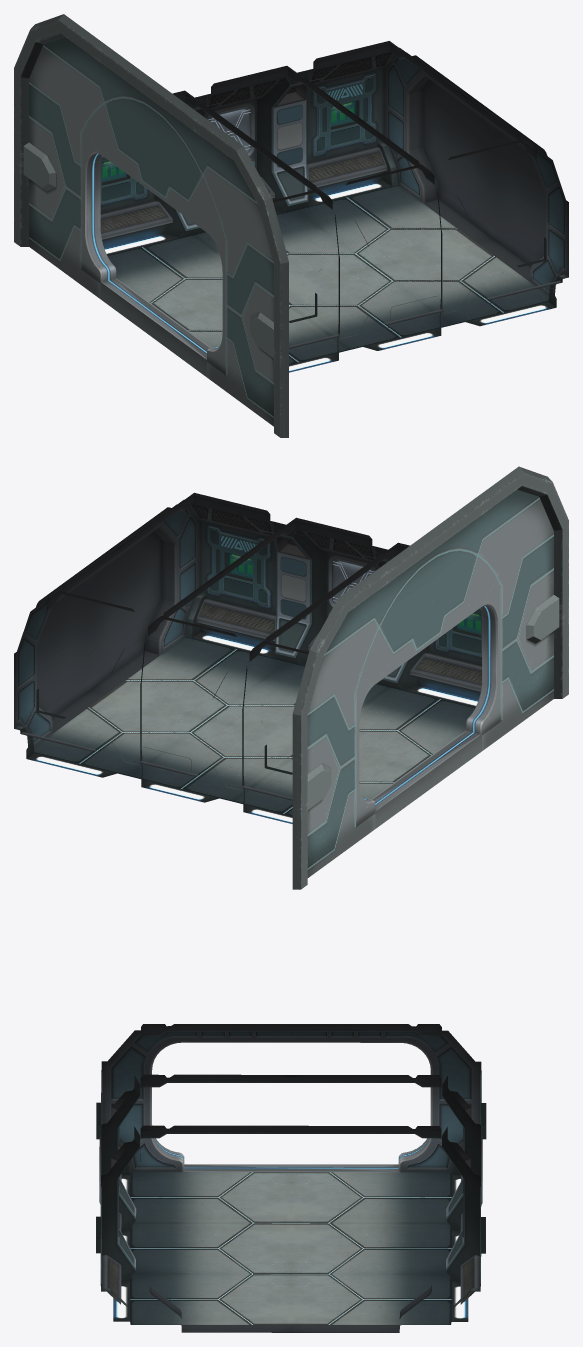
3 renders of one model, top to bottom at view 1: azimuth 30°, elevation 25°; view 2: azimuth 150°, elevation 25°; view 3: azimuth 270°, elevation 25°, orthographic. The views are drawn at different scales.
Parts seen in each view (by area): view 1: Gallery; view 2: Gallery; view 3: Gallery.
Part boxes in pixels (x1,y1,x2,y2): Gallery: (14,14,568,437); Gallery: (14,466,568,889); Gallery: (96,1024,486,1332).
Size of the model in its own units: 11.43 by 8.15 by 15.53.
Materials: 3 (2 with a texture image).
